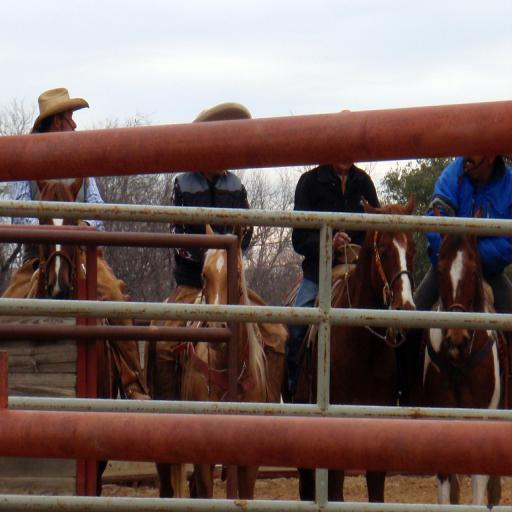horse: (280, 193, 420, 503), (142, 220, 287, 498), (32, 176, 138, 496), (420, 203, 502, 506)
